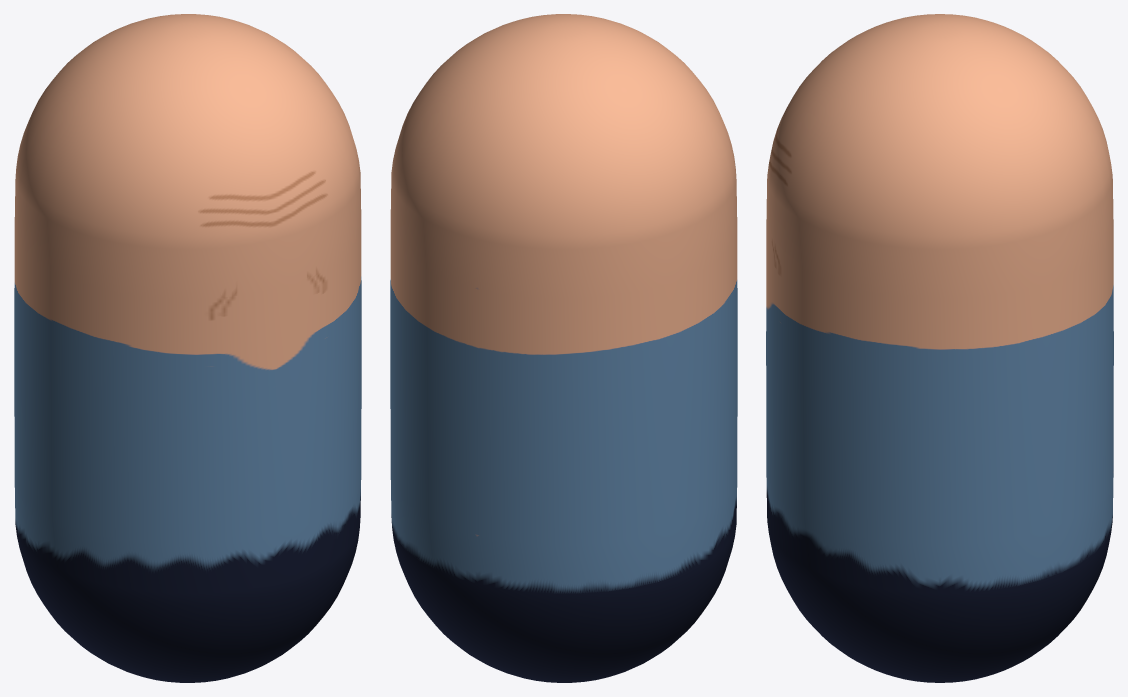
The model's file is boy2Capsule.fbx.
3 views of the same model, side by side, from view 1: azimuth 30°, elevation 25°; view 2: azimuth 150°, elevation 25°; view 3: azimuth 270°, elevation 25° (orthographic).
Parts seen in each view (by area): view 1: boy2Capsule; view 2: boy2Capsule; view 3: boy2Capsule.
Part boxes in pixels (x1,y1,x2,y2): boy2Capsule: [14, 14, 361, 682]; boy2Capsule: [390, 14, 737, 682]; boy2Capsule: [766, 14, 1113, 682].
Size of the model in its own units: 1.98 by 4 by 1.98.
Materials: 1 (1 with a texture image).
